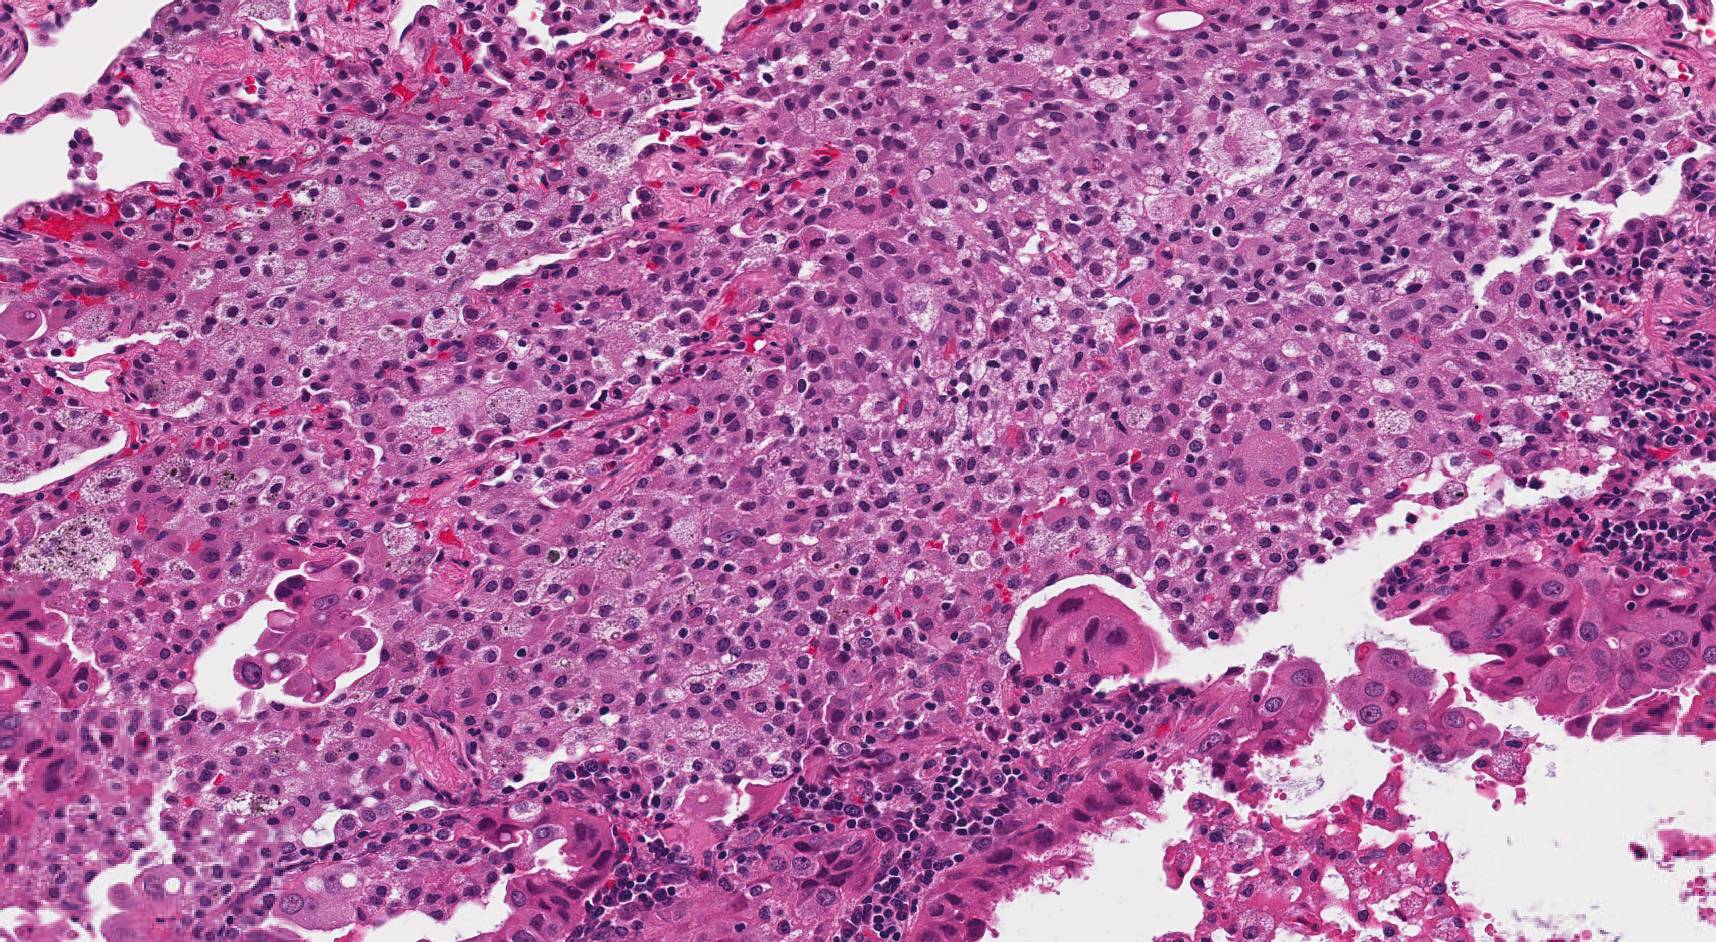stas: (1331, 644, 1510, 773), (230, 562, 375, 701), (1016, 583, 1161, 677)
